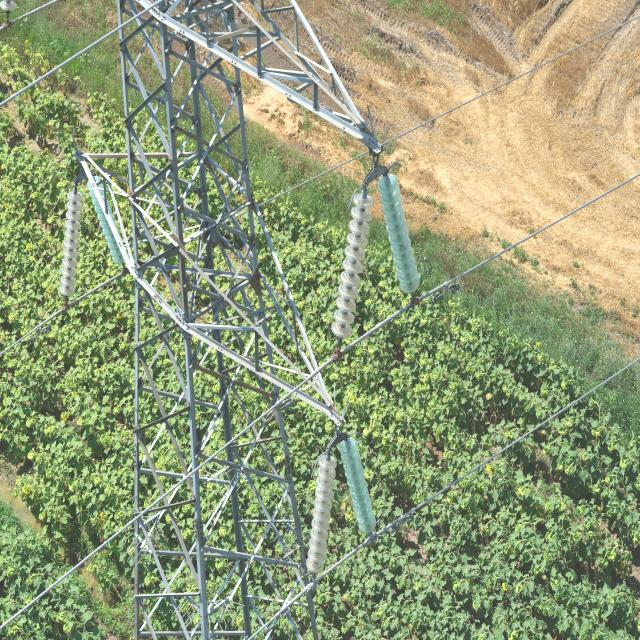voltage_line: (107, 0, 324, 640)
